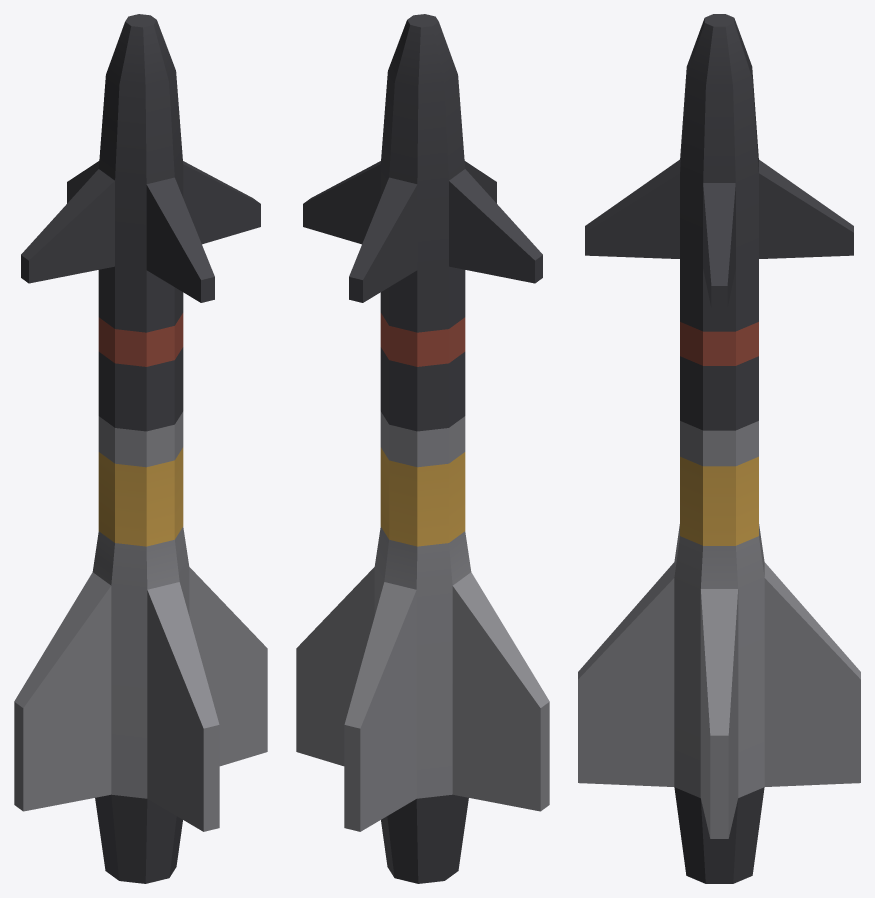
Rendered from SM_Prop_Missile_01.fbx.
The picture shows the model from 3 angles, left to right: view 1: azimuth 30°, elevation 25°; view 2: azimuth 150°, elevation 25°; view 3: azimuth 270°, elevation 25°; orthographic projection.
Visible parts, largest first — view 1: SM_Prop_Missile_01_LOD0; view 2: SM_Prop_Missile_01_LOD0; view 3: SM_Prop_Missile_01_LOD0.
Boxes of the visible parts, x1=… form: SM_Prop_Missile_01_LOD0: x1=14, y1=14, x2=267, y2=883; SM_Prop_Missile_01_LOD0: x1=296, y1=14, x2=549, y2=883; SM_Prop_Missile_01_LOD0: x1=578, y1=14, x2=860, y2=883.
Size of the model in its own units: 33.65 by 33.65 by 112.
1 material, 1 textured.
